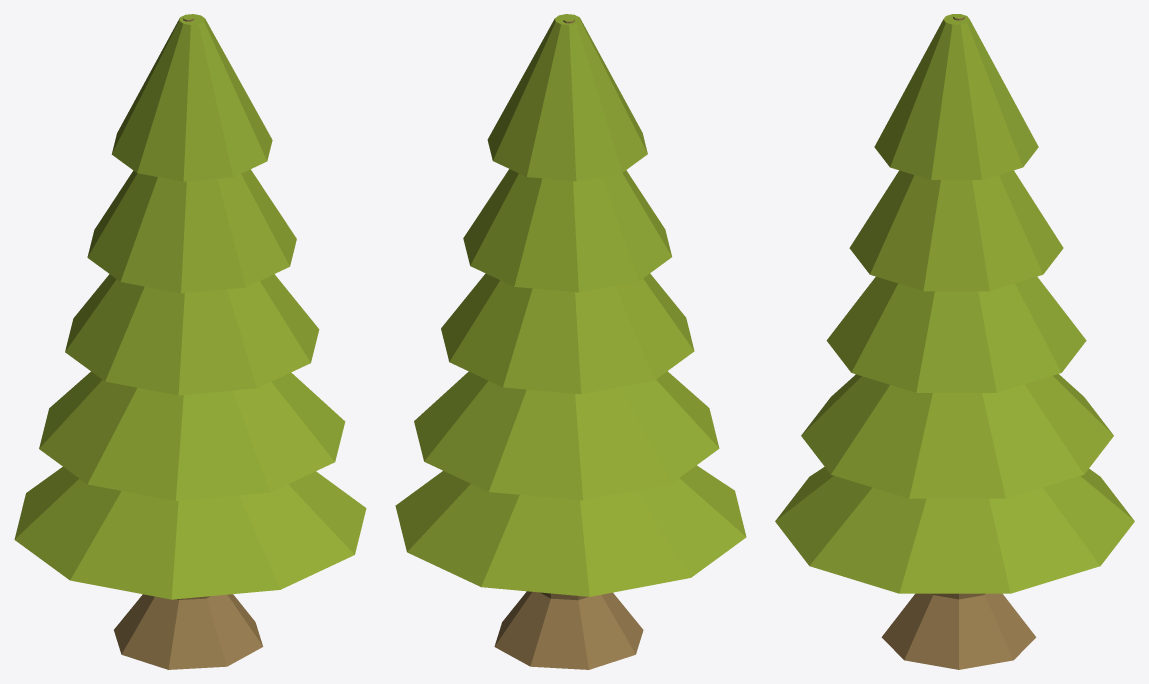
Rendered from treePine_Col.fbx.
3 renders of one model, left to right at view 1: azimuth 30°, elevation 25°; view 2: azimuth 150°, elevation 25°; view 3: azimuth 270°, elevation 25°, orthographic.
Visible parts, largest first — view 1: tree_Pine; view 2: tree_Pine; view 3: tree_Pine.
Boxes of the visible parts, x1,y1,x2,y2 form: tree_Pine: (14, 14, 366, 669); tree_Pine: (395, 14, 746, 669); tree_Pine: (775, 14, 1134, 669).
Bounding box in the file's own units: 93.7 × 187 × 98.52.
